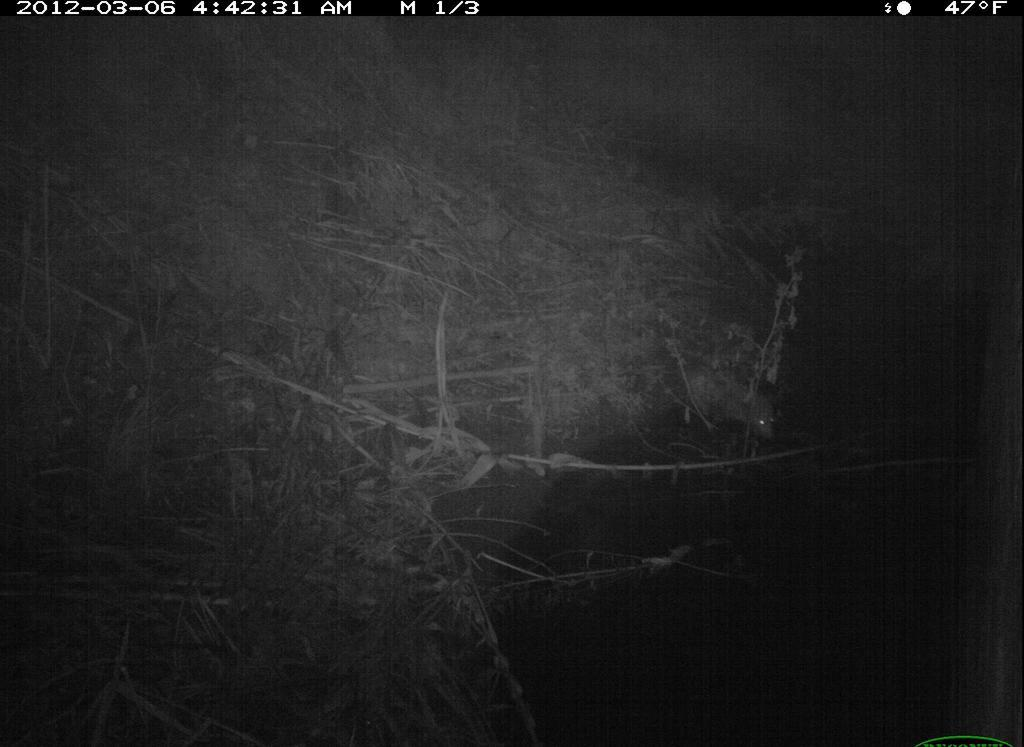opossum: (665, 347, 790, 454)
